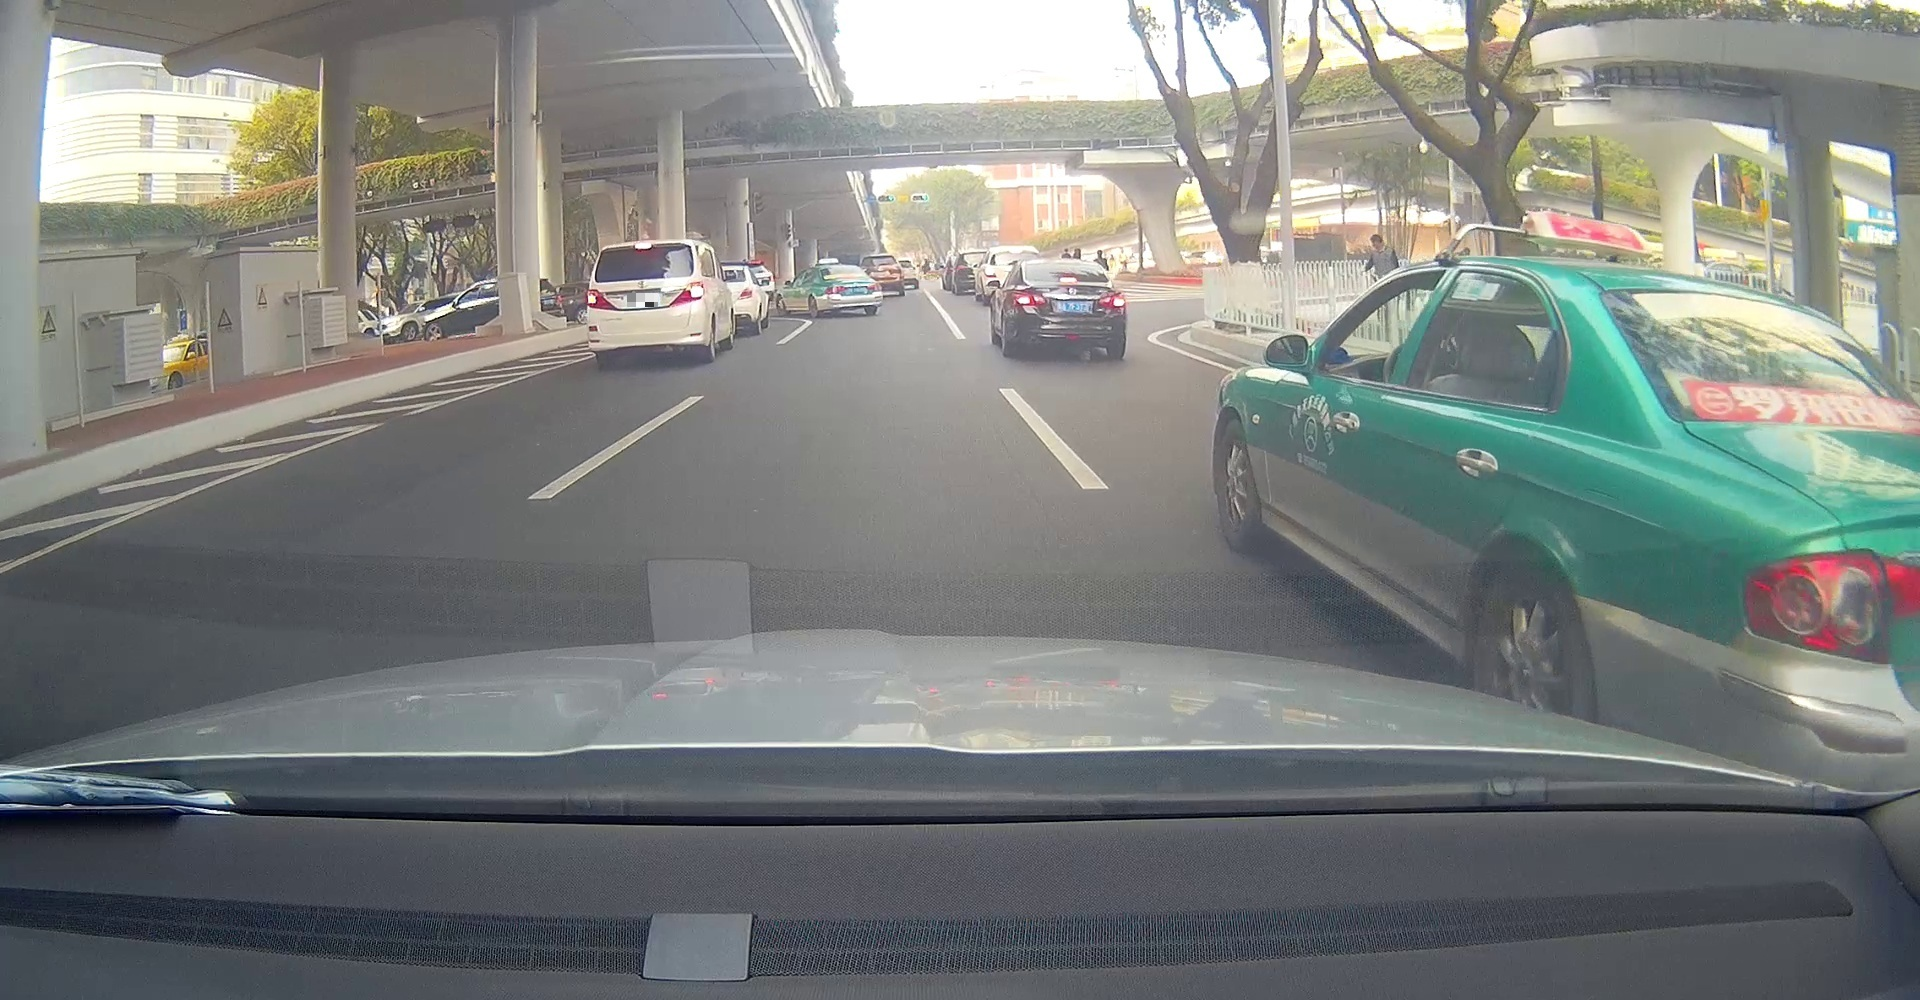L_light: (585, 291, 615, 308), (1012, 294, 1048, 307), (824, 286, 844, 294)
R_light: (670, 280, 703, 306), (1098, 293, 1126, 308), (869, 282, 883, 292)
T_light: (1060, 277, 1076, 283), (841, 266, 848, 269)
day-brake: (1011, 259, 1128, 359), (632, 242, 651, 249)
day-no: (585, 239, 707, 364), (819, 264, 883, 317)
plate_1: (627, 293, 658, 307)
